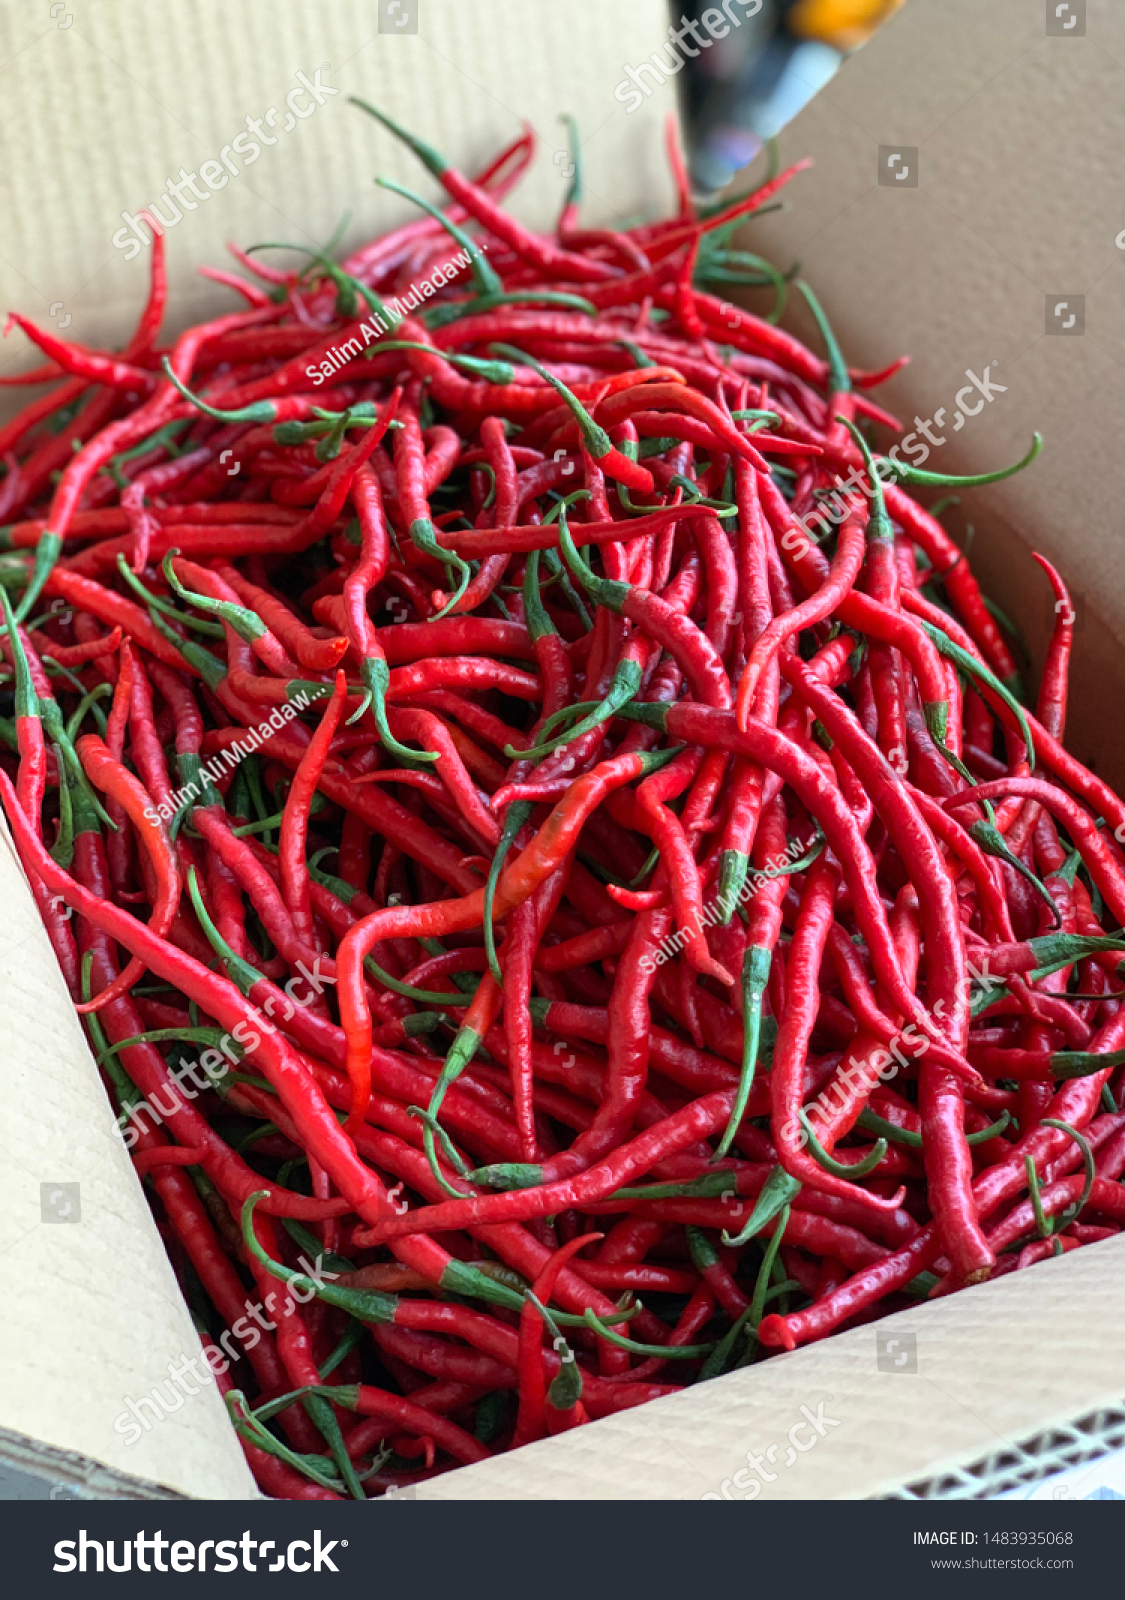Cabai: (74, 184, 1017, 1244)
